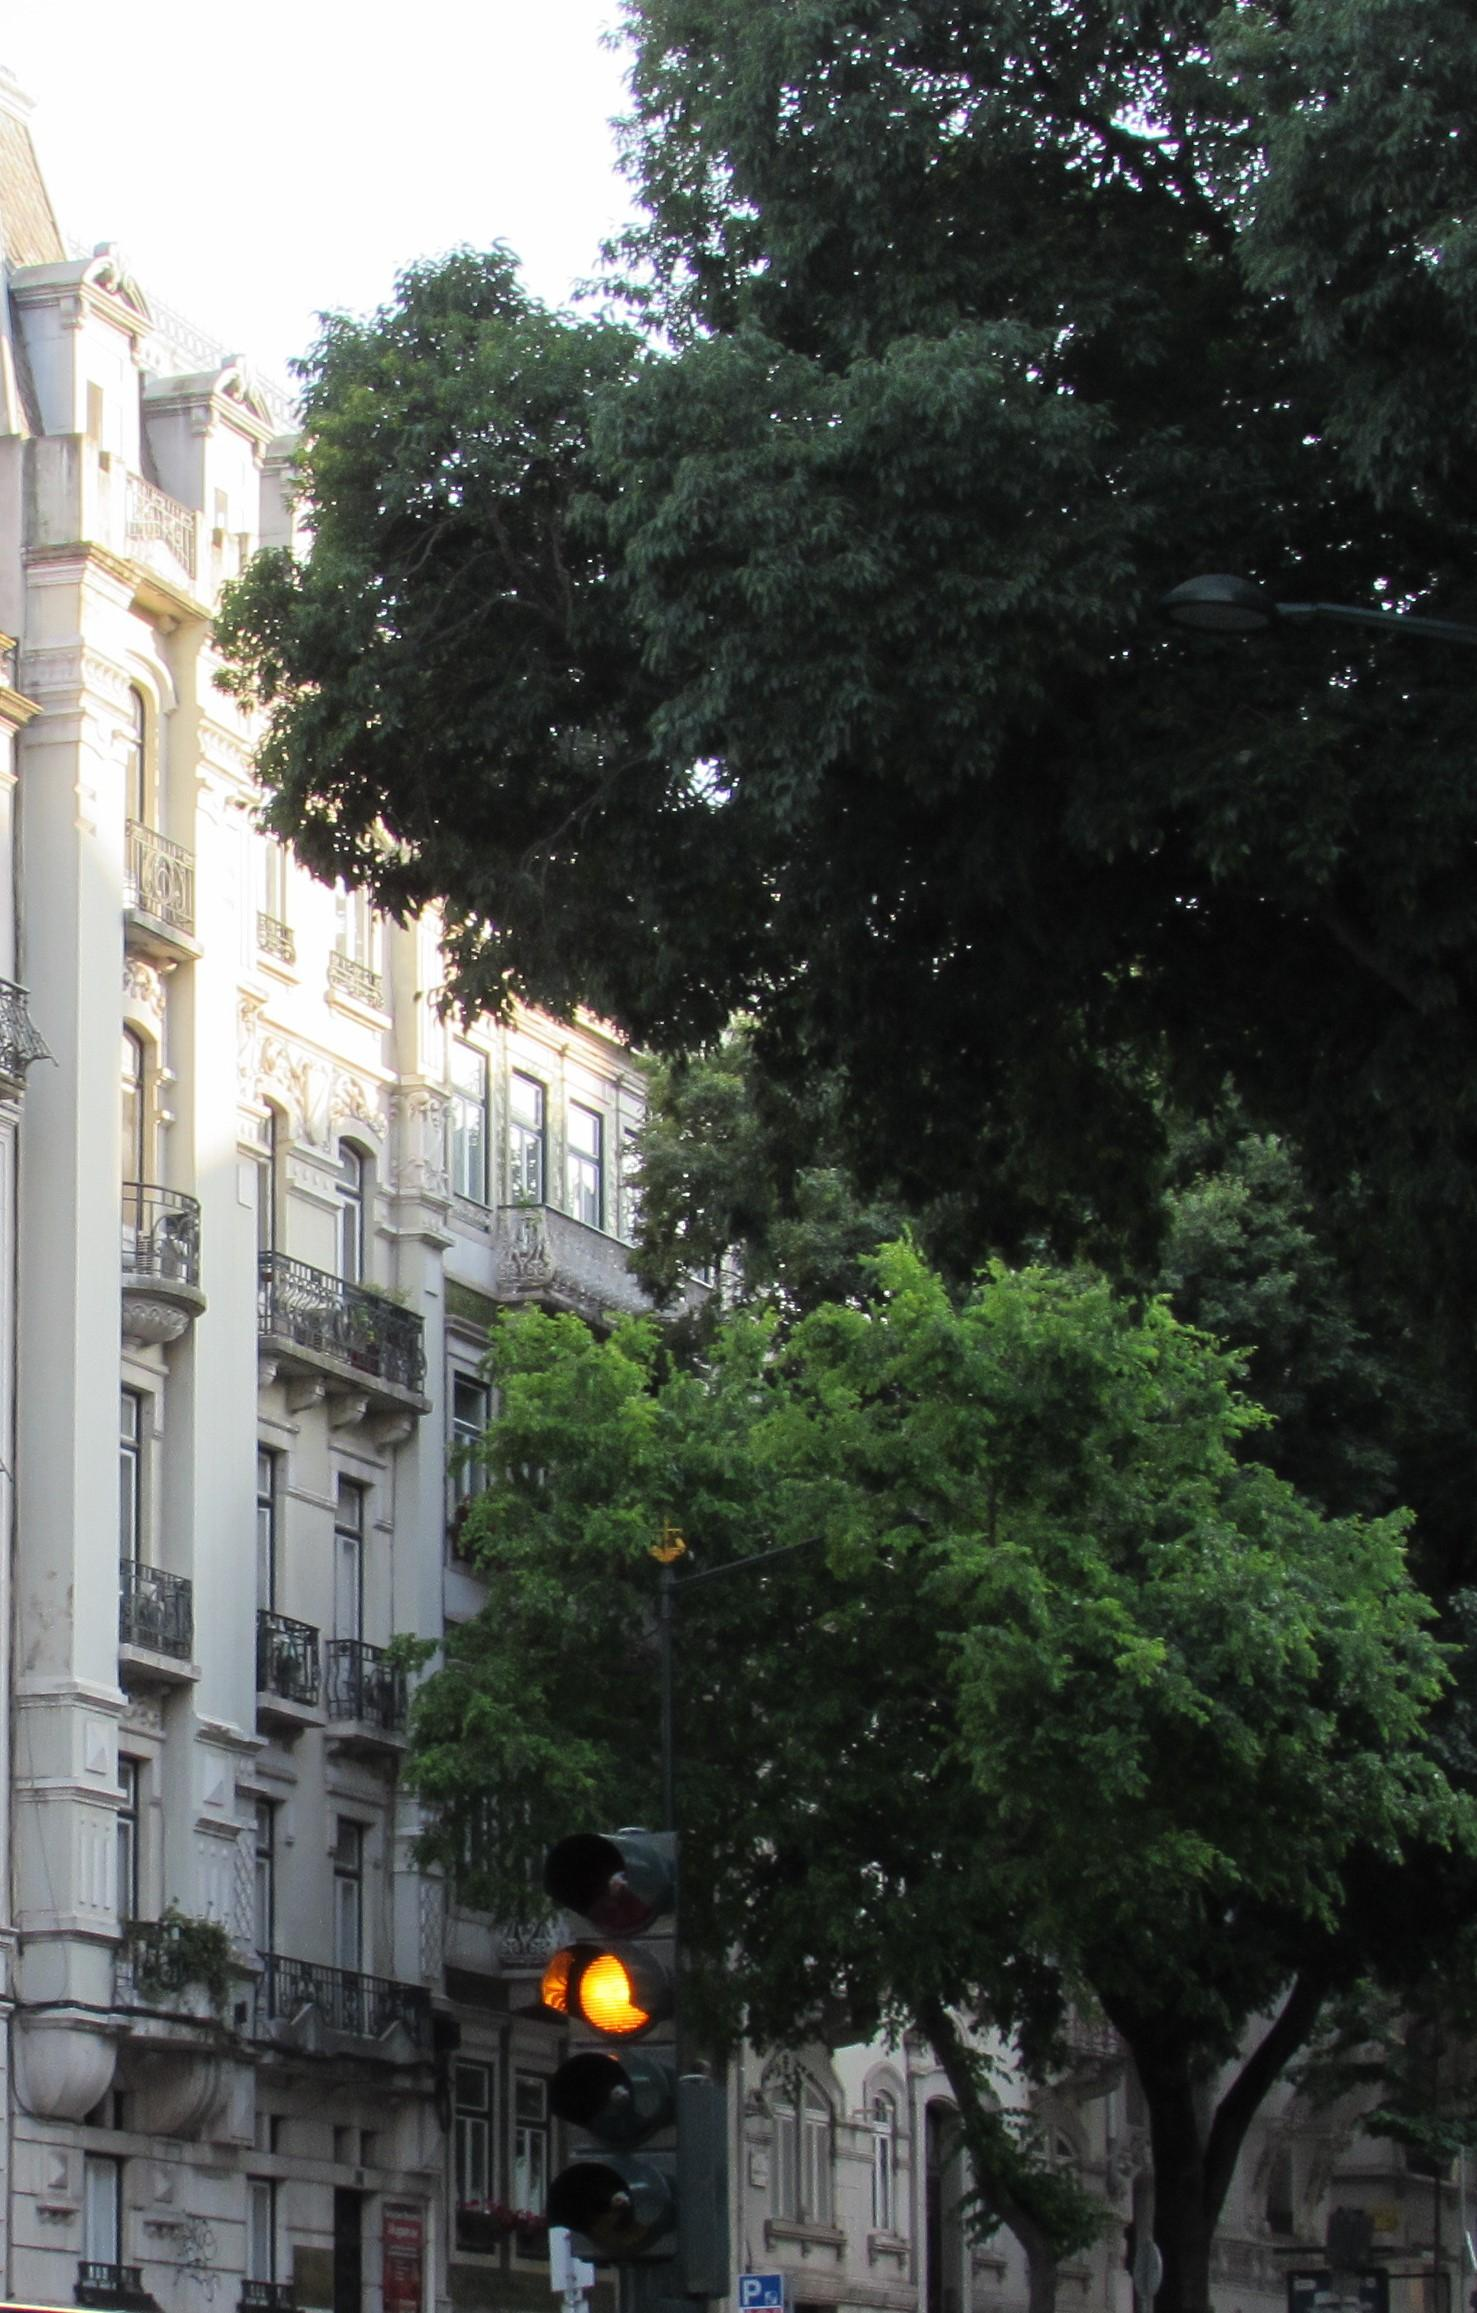yellow_light: (543, 1831, 685, 2151)
